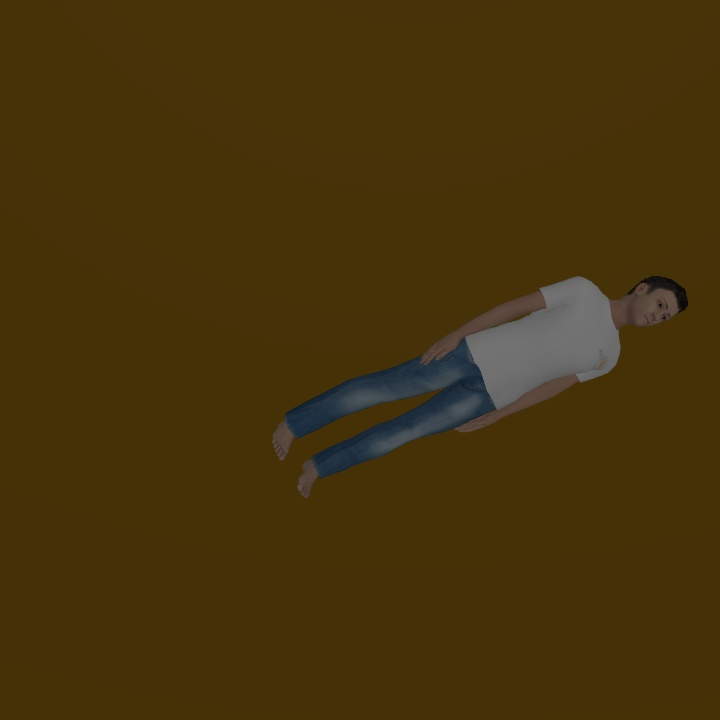victim: (273, 273, 690, 498)
